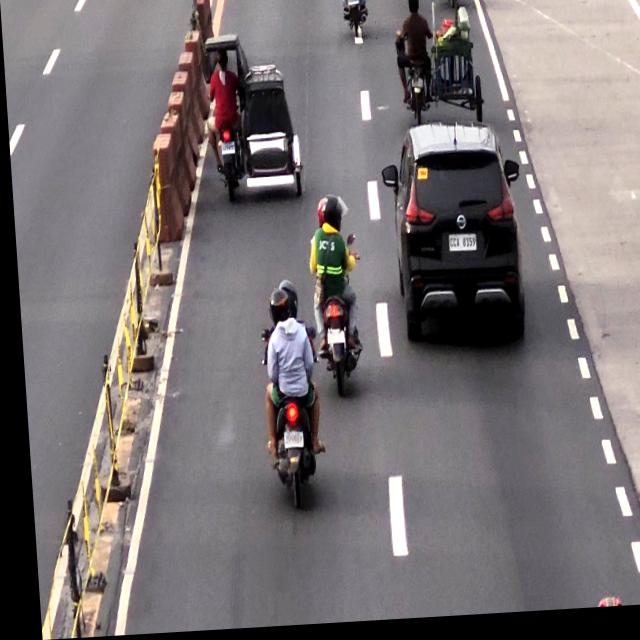Car: (389, 131, 516, 350)
License-Plate: (445, 240, 474, 259), (276, 433, 299, 452), (217, 144, 235, 159)
Motorcycle: (249, 282, 316, 509), (301, 194, 360, 401)
Tricycle: (200, 31, 299, 203), (390, 0, 484, 135)
